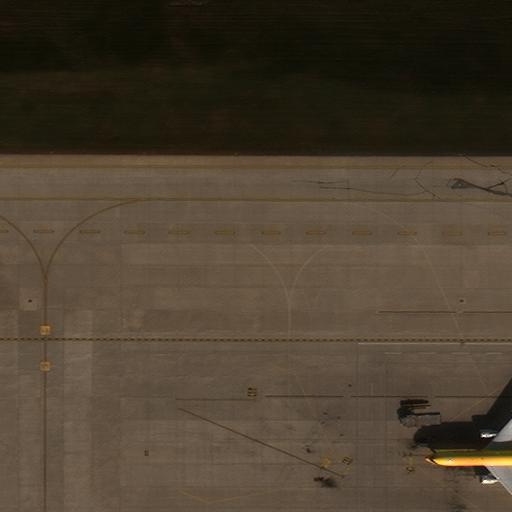Large Civil Transport: (429, 405, 511, 512)
